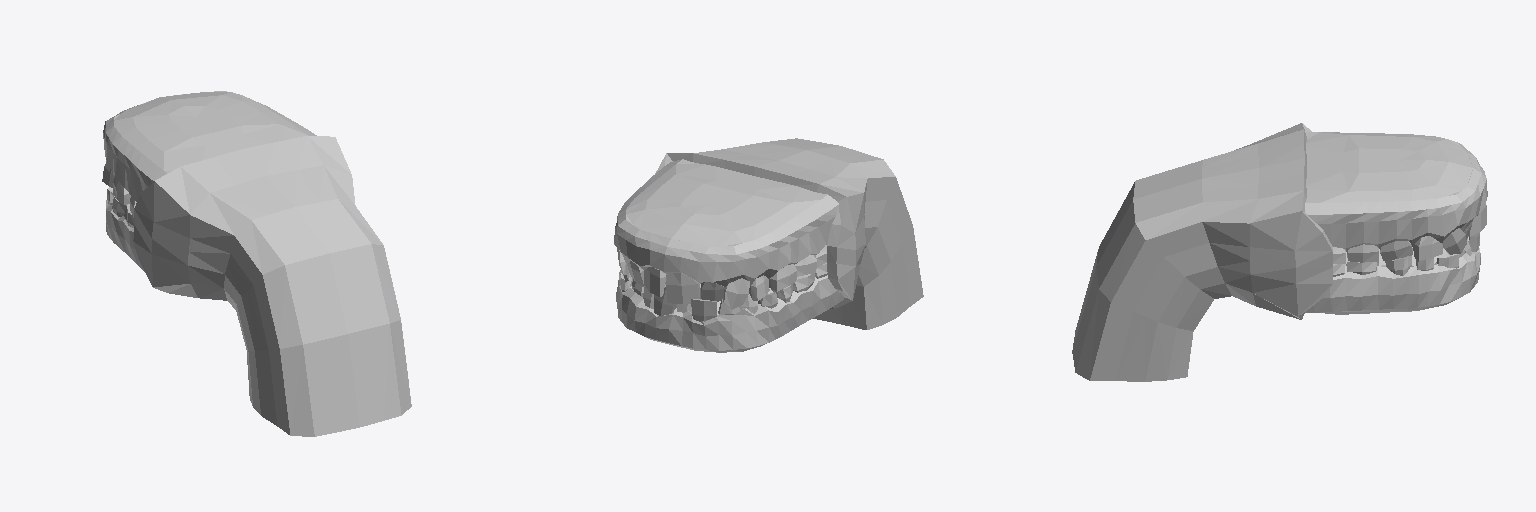
The model's file is Human Denture - with Crooked Teeth.obj.
3 views of the same model, side by side, from view 1: azimuth 30°, elevation 25°; view 2: azimuth 150°, elevation 25°; view 3: azimuth 270°, elevation 25° (orthographic).
Parts seen in each view (by area): view 1: HwCT_-_Throat, HwCT_-_Upper_Jaw, HwCT_-_Lower_Jaw; view 2: HwCT_-_Upper_Jaw, HwCT_-_Throat, HwCT_-_Lower_Jaw; view 3: HwCT_-_Throat, HwCT_-_Upper_Jaw, HwCT_-_Lower_Jaw.
Part boxes in pixels (x1,y1,x2,y2): HwCT_-_Throat: (133, 136, 411, 436); HwCT_-_Upper_Jaw: (102, 91, 316, 217); HwCT_-_Lower_Jaw: (106, 187, 144, 271); HwCT_-_Upper_Jaw: (614, 159, 838, 309); HwCT_-_Throat: (655, 138, 923, 329); HwCT_-_Lower_Jaw: (616, 263, 844, 352); HwCT_-_Throat: (1072, 123, 1332, 381); HwCT_-_Upper_Jaw: (1305, 132, 1487, 263); HwCT_-_Lower_Jaw: (1304, 232, 1480, 314).
Size of the model in its own units: 0.1085 by 0.1057 by 0.2028.